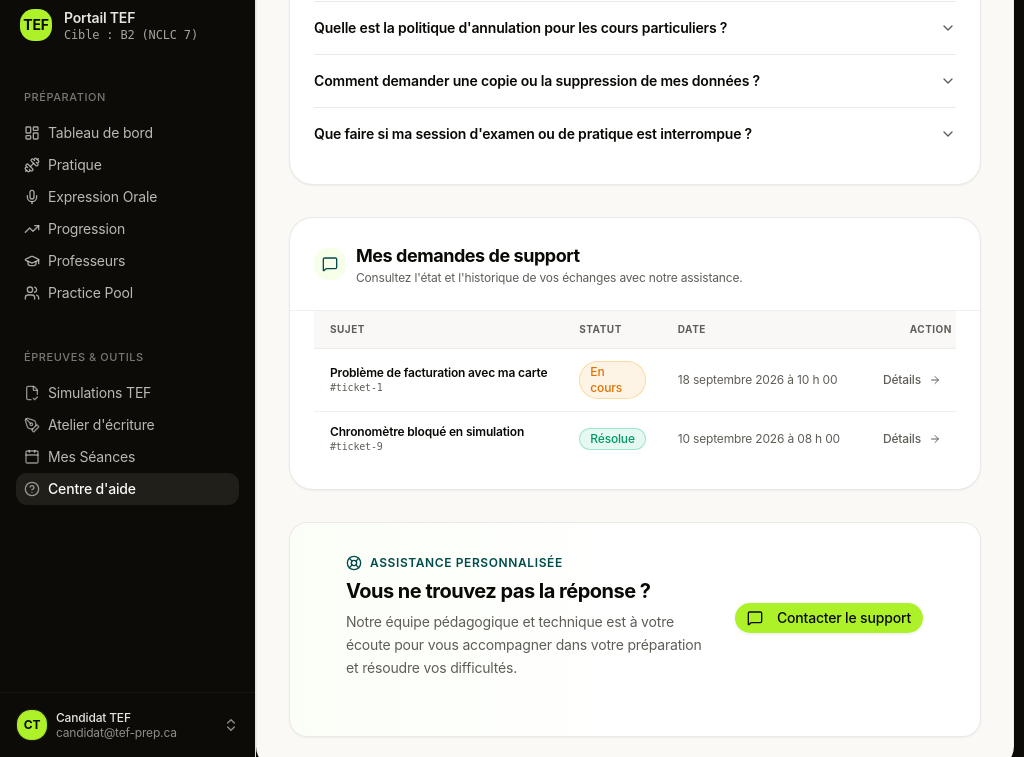
Test: Page 22 — Student Help & Support (/help) › displays student support requests (Mes demandes) with localized statuses and opens detail modal
(page scrolled)
Expected: the heading "Mes demandes de support" is shown, left=356, top=245, right=580, bottom=266
Click on a ticket row to open detail modal
Click the text "Problème de facturation avec ma carte" at [439, 373], box left=330, top=365, right=547, bottom=381
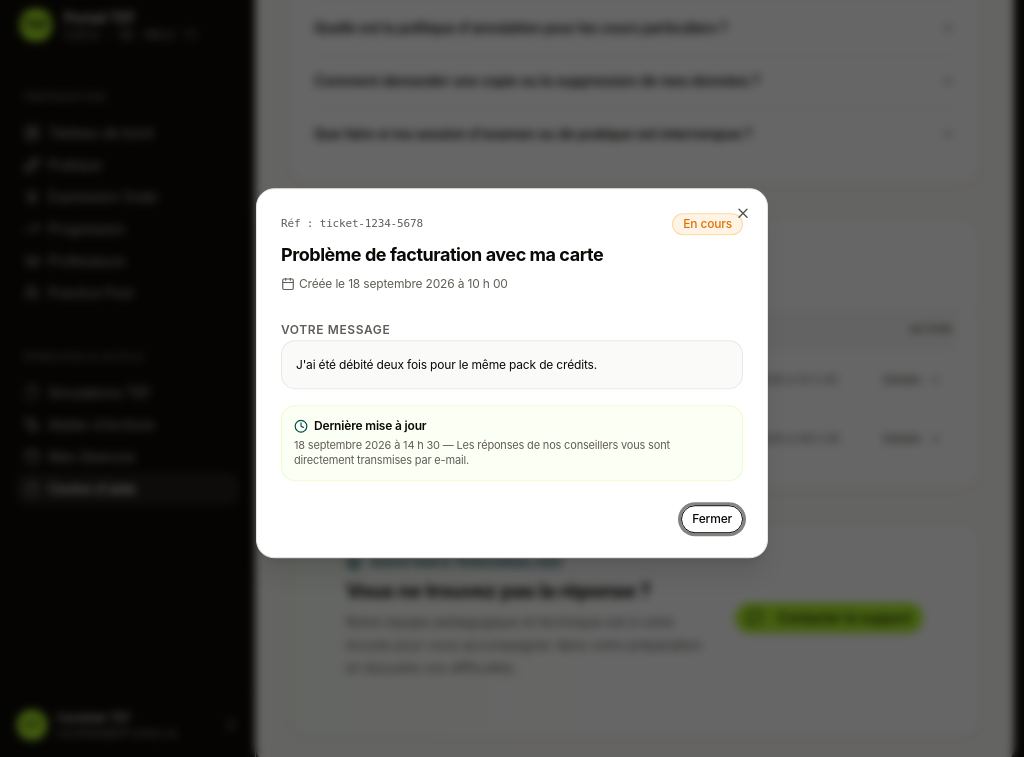
Result: the text "J'ai été débité deux fois pour le même pack de crédits." is shown at left=281, top=340, right=743, bottom=390
